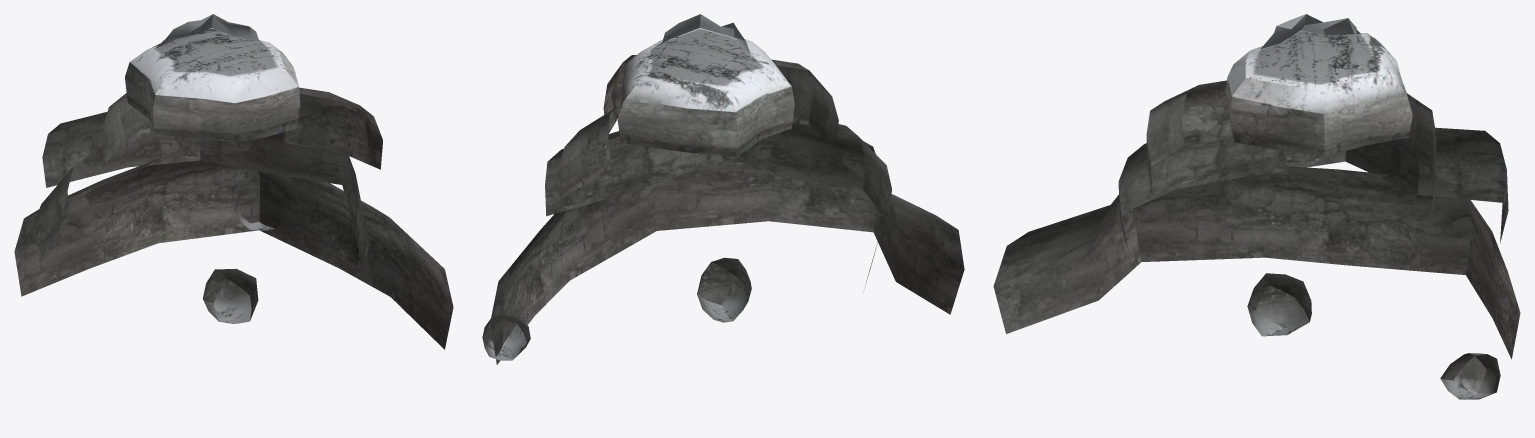
File: rock_outcrop_snow.glb
3 views of the same model, side by side, from view 1: azimuth 30°, elevation 25°; view 2: azimuth 150°, elevation 25°; view 3: azimuth 270°, elevation 25° (orthographic). The views are drawn at different scales.
Visible parts, largest first — view 1: root_mesh; view 2: root_mesh; view 3: root_mesh.
Part boxes in pixels (x1=…): root_mesh: x1=14, y1=14, x2=453, y2=349; root_mesh: x1=482, y1=14, x2=964, y2=364; root_mesh: x1=993, y1=14, x2=1520, y2=399.
Bounding box in the file's own units: 0.8413 × 0.7003 × 1.07.
1 material, 1 textured.
